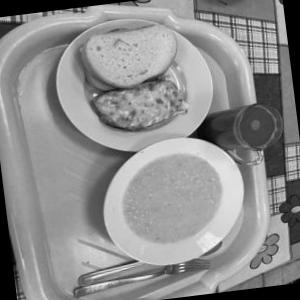bread: (63, 13, 195, 92)
cheese_sandwich: (76, 67, 210, 140)
coffee: (190, 91, 286, 165)
porridge: (110, 142, 236, 254)
